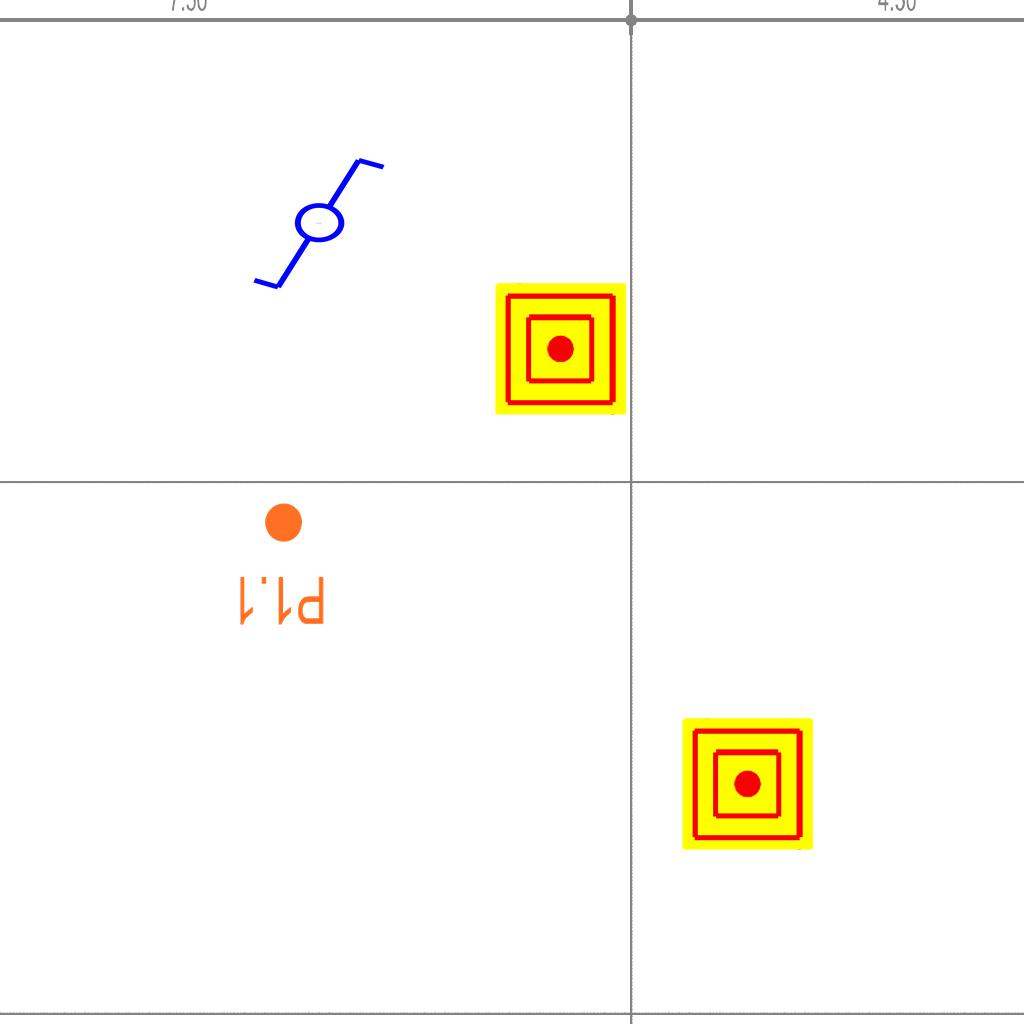Downlight_LED_Einbauleuchten_Flur: (234, 500, 327, 628)
NAM-Nichtautomatischer_Melder: (682, 718, 814, 850), (495, 283, 627, 415)
Wechselschalter: (249, 153, 406, 297)
